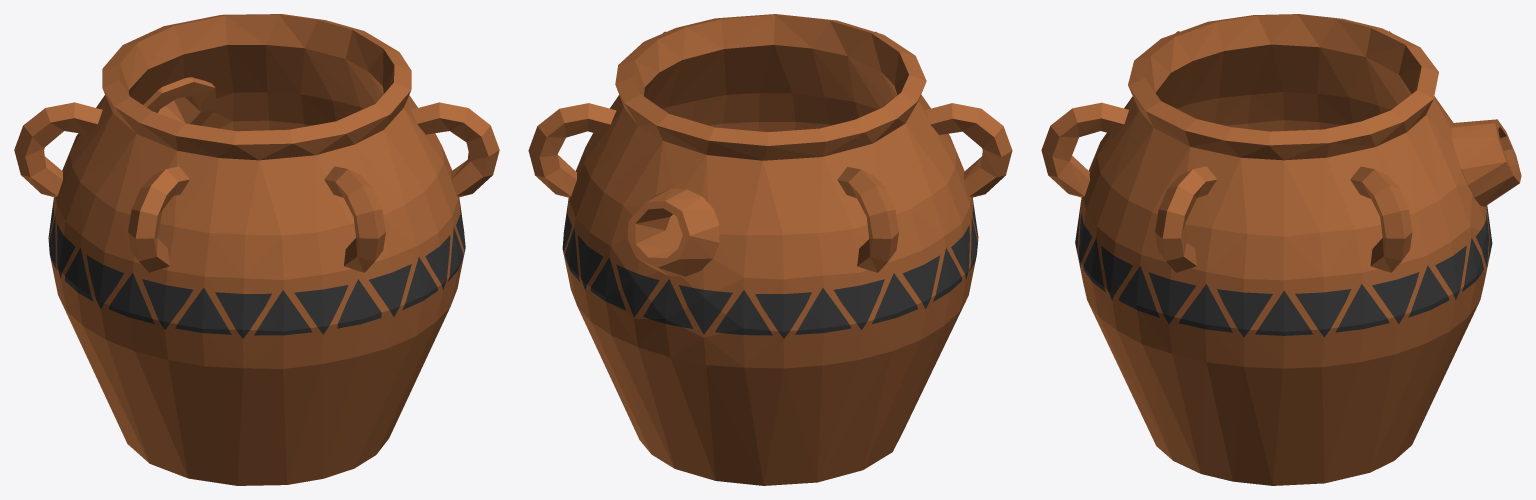
Rendered from Pottery 17_3.fbx.
The picture shows the model from 3 angles, left to right: view 1: azimuth 30°, elevation 25°; view 2: azimuth 150°, elevation 25°; view 3: azimuth 270°, elevation 25°; orthographic projection.
Parts seen in each view (by area): view 1: Pottery 17_3; view 2: Pottery 17_3; view 3: Pottery 17_3.
Boxes of the visible parts, x1,y1,x2,y2 form: Pottery 17_3: (14, 14, 499, 485); Pottery 17_3: (528, 14, 1012, 485); Pottery 17_3: (1041, 14, 1521, 485).
Bounding box in the file's own units: 88.77 × 83.31 × 102.
